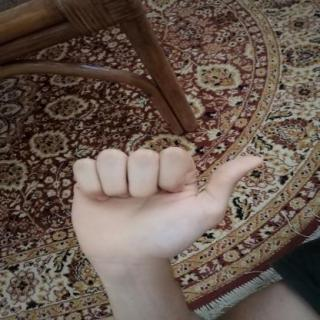DAD: (59, 141, 273, 274)
